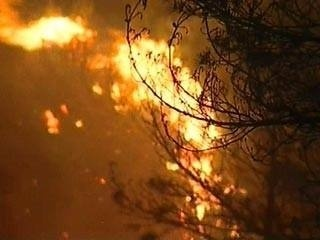fire: (0, 3, 92, 51), (38, 102, 77, 135)
